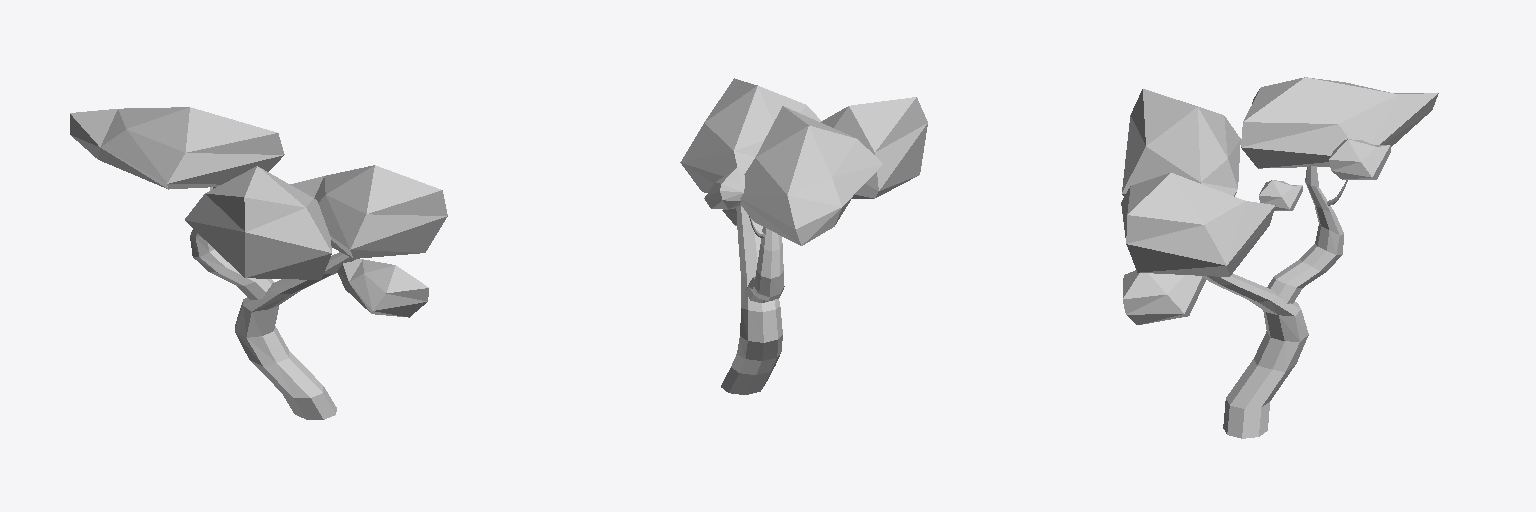
The model's file is tree1.obj.
3 views of the same model, side by side, from view 1: azimuth 30°, elevation 25°; view 2: azimuth 150°, elevation 25°; view 3: azimuth 270°, elevation 25° (orthographic).
Visible parts, largest first — view 1: pSphere17; view 2: pSphere17; view 3: pSphere17.
Boxes of the visible parts, x1,y1,x2,y2 form: pSphere17: [70, 107, 447, 419]; pSphere17: [680, 78, 927, 394]; pSphere17: [1121, 77, 1438, 438].
Size of the model in its own units: 9.84 by 12.49 by 11.78.